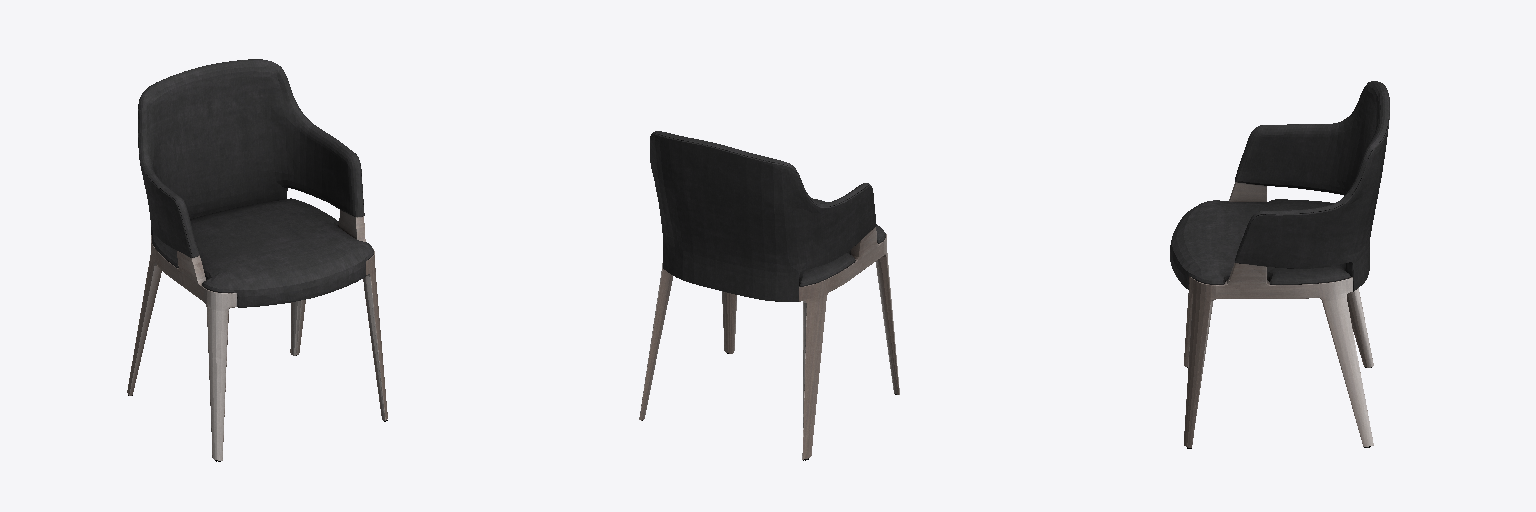
The picture shows the model from 3 angles: view 1: azimuth 30°, elevation 25°; view 2: azimuth 150°, elevation 25°; view 3: azimuth 270°, elevation 25°; orthographic projection.
Visible parts, largest first — view 1: solid_003, solid_002; view 2: solid_003, solid_002; view 3: solid_003, solid_002.
Boxes of the visible parts, <box> form: solid_003: <box>138,59,373,307</box>; solid_002: <box>127,210,387,460</box>; solid_003: <box>650,131,885,301</box>; solid_002: <box>639,227,899,459</box>; solid_003: <box>1170,81,1389,291</box>; solid_002: <box>1184,182,1373,447</box>.
Bounding box in the file's own units: 0.5908 × 0.8492 × 0.6084.
1 materials, 1 textured.